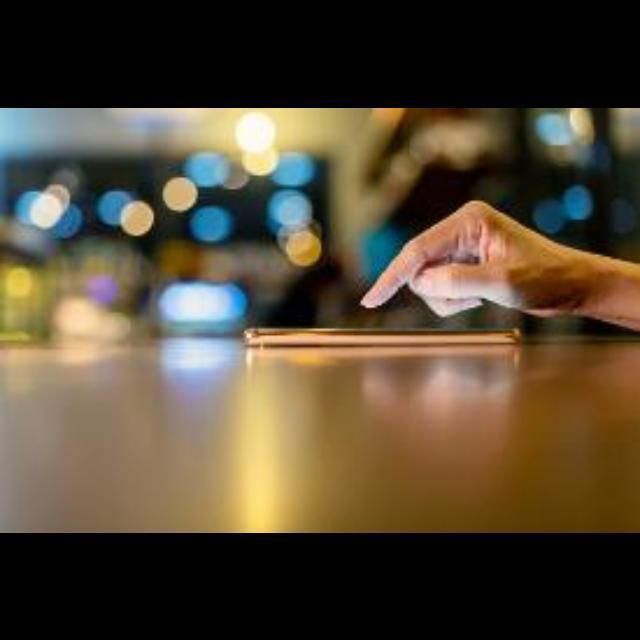PhoneUse: (247, 318, 535, 362)
